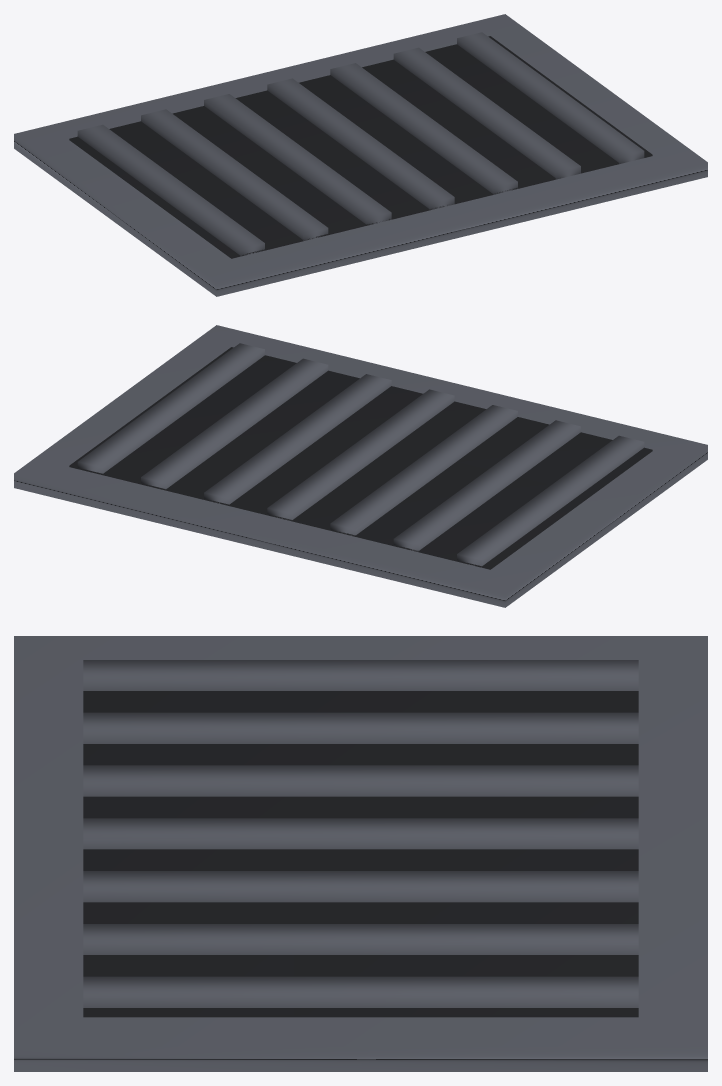
File: drain_grate.glb
The picture shows the model from 3 angles, top to bottom: view 1: azimuth 30°, elevation 25°; view 2: azimuth 150°, elevation 25°; view 3: azimuth 270°, elevation 25°; orthographic projection. The views are drawn at different scales.
Parts seen in each view (by area): view 1: Body; view 2: Body; view 3: Body.
Boxes of the visible parts, box(x1,y1,x2,y2) form: Body: box(14, 14, 707, 296); Body: box(14, 325, 707, 607); Body: box(14, 636, 707, 1071).
Size of the model in its own units: 0.7 by 0.03 by 0.5.
1 material, 1 textured.
